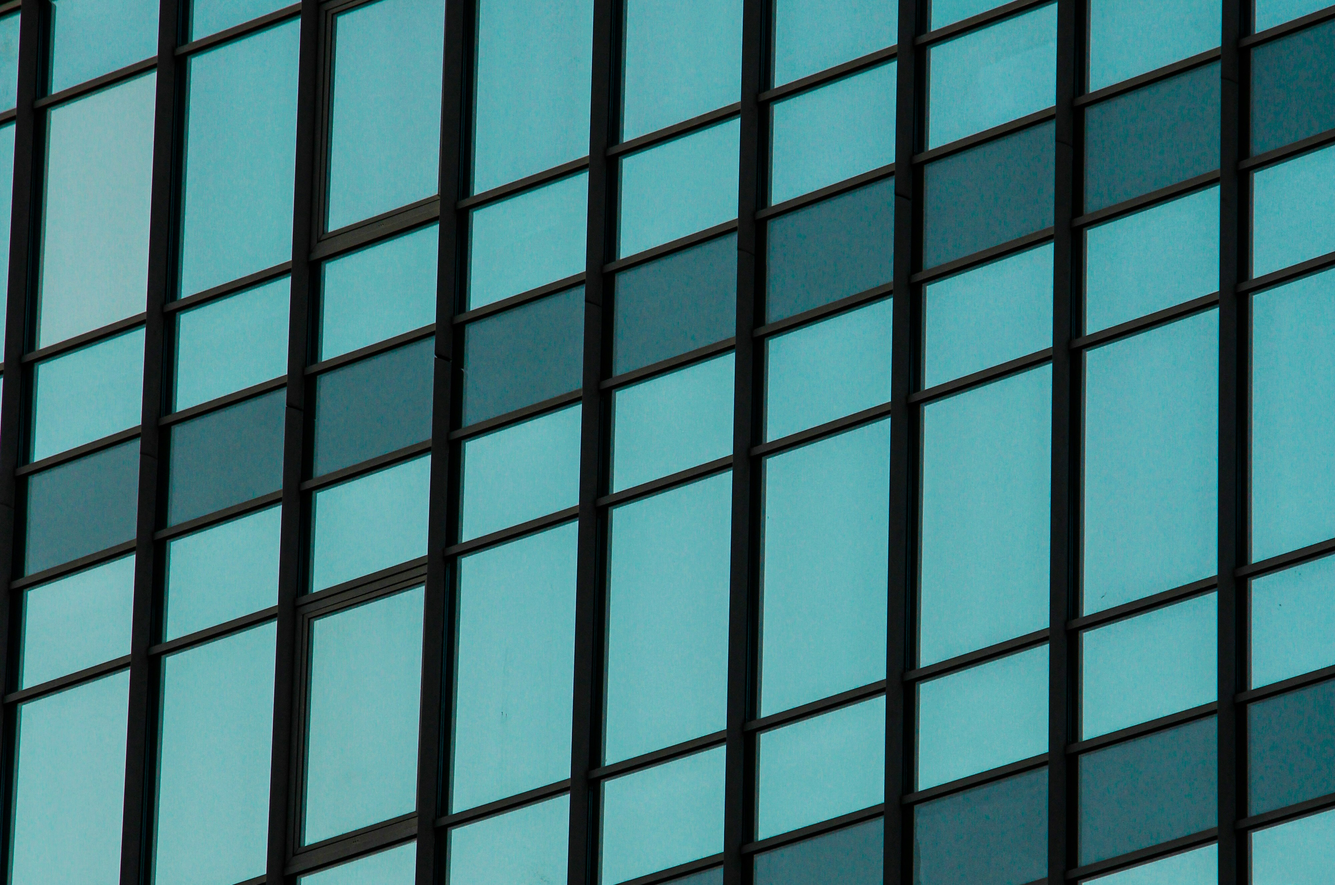glass_panel: (1082, 310, 1218, 613), (919, 365, 1052, 665), (760, 421, 889, 715), (603, 472, 732, 763), (450, 523, 577, 811), (179, 20, 299, 296), (37, 74, 155, 346), (154, 622, 276, 885), (301, 587, 424, 844), (326, 0, 444, 230), (7, 671, 129, 885), (1250, 271, 1335, 561), (472, 0, 593, 193), (1084, 63, 1221, 212), (1079, 717, 1217, 864), (1080, 593, 1218, 739), (1084, 186, 1220, 333), (916, 645, 1049, 789), (923, 123, 1055, 267), (928, 3, 1057, 148), (756, 696, 886, 839), (923, 244, 1053, 387), (766, 178, 894, 322), (770, 62, 896, 204), (765, 300, 892, 439), (613, 233, 737, 374), (599, 747, 725, 885), (611, 352, 735, 491), (463, 286, 585, 425), (617, 119, 740, 256), (622, 0, 742, 140), (313, 338, 434, 476), (318, 224, 439, 360), (468, 172, 588, 309), (460, 405, 581, 540), (310, 457, 430, 592), (913, 767, 1048, 885), (168, 390, 286, 524), (24, 439, 140, 574), (173, 277, 290, 410), (163, 507, 280, 640), (18, 556, 135, 689), (30, 328, 145, 461), (1088, 0, 1222, 91), (1248, 681, 1335, 814), (1250, 22, 1335, 154), (1249, 557, 1335, 687), (448, 795, 568, 885), (773, 0, 898, 86), (1252, 147, 1335, 276), (49, 0, 159, 93), (753, 818, 884, 885), (1251, 811, 1335, 885), (1083, 844, 1219, 885), (298, 842, 416, 885), (189, 0, 287, 40), (1255, 0, 1330, 32), (927, 0, 1001, 29), (0, 12, 20, 110), (0, 123, 16, 242)
